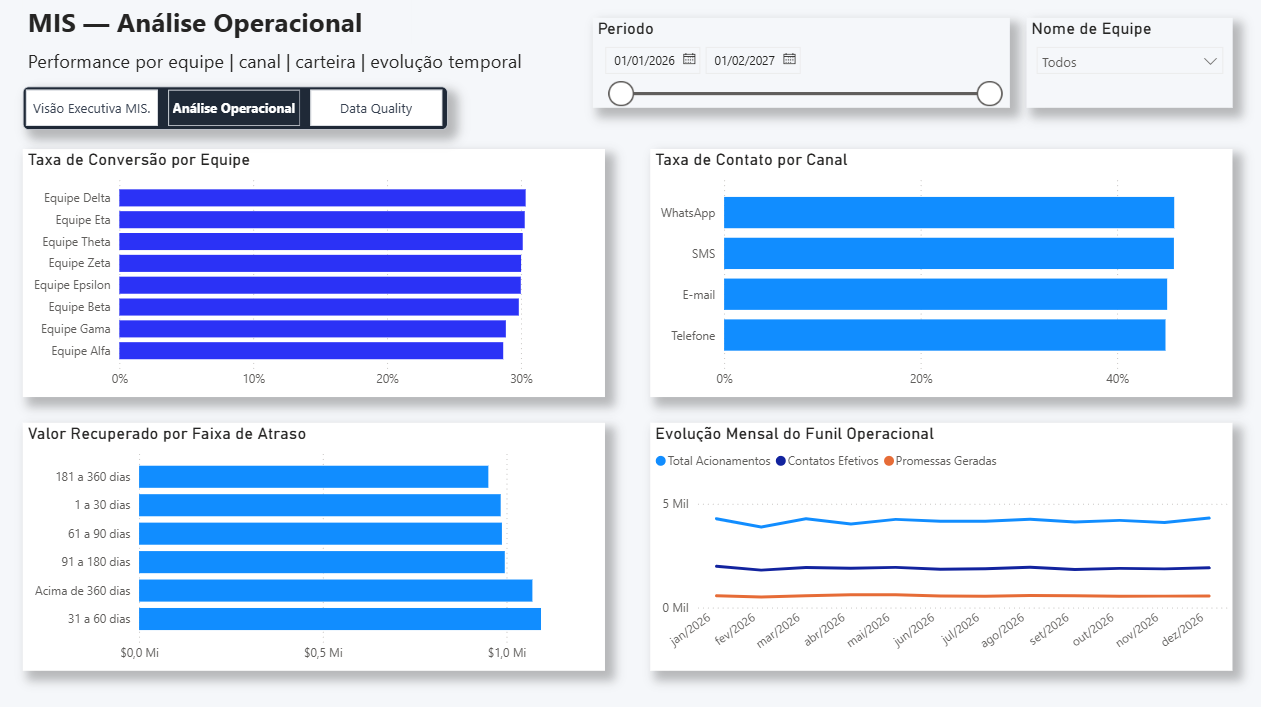

This screenshot's page, from the dashboard's own definition file:
{"tool":"powerbi","page":{"name":"Análise Operacional","canvas":[1280,720],"ordinal":1},"visuals":[{"type":"textbox","box":[23.7,0,393.9,71.2],"z":0},{"type":"textbox","box":[24.1,45.6,606.3,45.6],"z":1000},{"type":"clusteredBarChart","title":"Taxa de Conversão por Equipe","fields":{"Category":["dim_equipe.nome_equipe"],"Y":["fato_acionamentos.Taxa de Conversão"]},"box":[23.8,152.1,589.5,251.3],"z":2000},{"type":"clusteredBarChart","title":"Taxa de Contato por Canal","fields":{"Category":["dim_canal.nome_canal"],"Y":["fato_acionamentos.Taxa de Contato"]},"box":[659.5,152.1,589.5,251.3],"z":3000},{"type":"clusteredBarChart","title":"Valor Recuperado por Faixa de Atraso","fields":{"Category":["dim_carteira.faixa_atraso"],"Y":["fato_pagamentos.Valor Total Recuperado"]},"box":[23.8,429.4,589.5,251.3],"z":4000},{"type":"lineChart","title":"Evolução Mensal do Funil Operacional","fields":{"Category":["dim_data.MesAno"],"Y":["fato_acionamentos.Total Acionamentos","fato_acionamentos.Contatos Efetivos","fato_acionamentos.Promessas Geradas"]},"box":[659.5,429.4,589.5,251.3],"z":5000},{"type":"slicer","title":"Periodo","fields":{"Values":["dim_data.data"]},"box":[601.3,19,422.8,91.1],"z":6000},{"type":"slicer","title":"Nome de Equipe","fields":{"Values":["dim_equipe.nome_equipe"]},"box":[1040.5,19,208.9,91.1],"z":7000},{"type":"pageNavigator","box":[23.8,88.8,430,43.8],"z":8000}]}

Visuals, with their boxes in screenshot pixels (x1, y1, x2, y2), scaled from the page's 1280x720 canvas onto the 1261x707 screenshot:
textbox: {"left": 23, "top": 0, "right": 411, "bottom": 70}
textbox: {"left": 24, "top": 45, "right": 621, "bottom": 90}
"Taxa de Conversão por Equipe" clusteredBarChart: {"left": 23, "top": 149, "right": 604, "bottom": 396}
"Taxa de Contato por Canal" clusteredBarChart: {"left": 650, "top": 149, "right": 1230, "bottom": 396}
"Valor Recuperado por Faixa de Atraso" clusteredBarChart: {"left": 23, "top": 422, "right": 604, "bottom": 668}
"Evolução Mensal do Funil Operacional" lineChart: {"left": 650, "top": 422, "right": 1230, "bottom": 668}
"Periodo" slicer: {"left": 592, "top": 19, "right": 1009, "bottom": 108}
"Nome de Equipe" slicer: {"left": 1025, "top": 19, "right": 1231, "bottom": 108}
pageNavigator: {"left": 23, "top": 87, "right": 447, "bottom": 130}
